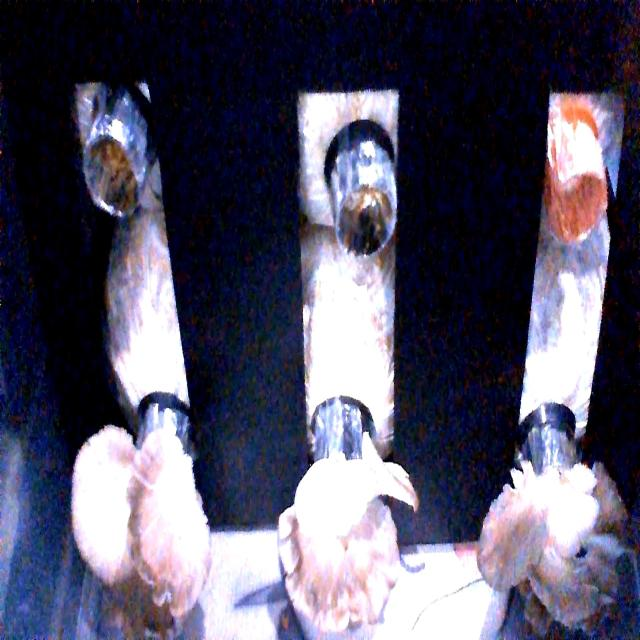big: (55, 391, 217, 632), (468, 443, 634, 640), (271, 433, 411, 640)
nfound: (332, 137, 408, 266), (538, 150, 616, 270), (75, 123, 153, 237)
